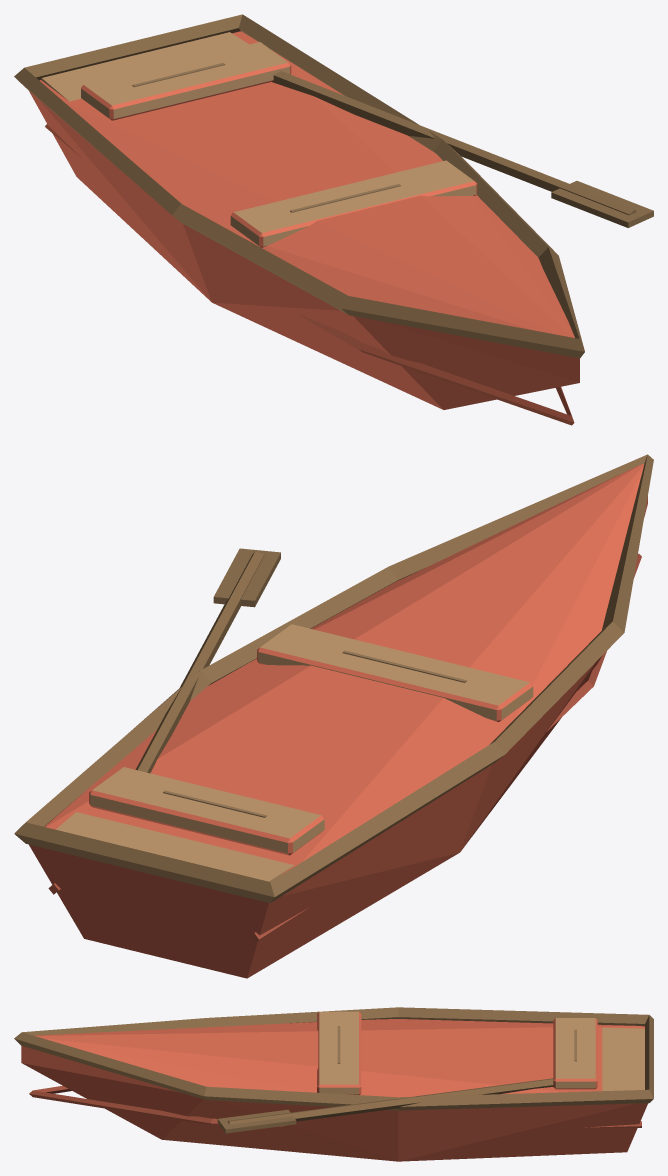
The model's file is rowboat.glb.
3 renders of one model, top to bottom at view 1: azimuth 30°, elevation 25°; view 2: azimuth 150°, elevation 25°; view 3: azimuth 270°, elevation 25°, orthographic. The views are drawn at different scales.
Parts seen in each view (by area): view 1: rowboat-m; view 2: rowboat-m; view 3: rowboat-m.
Boxes of the visible parts, x1,y1,x2,y2 form: rowboat-m: [14, 14, 653, 425]; rowboat-m: [14, 454, 653, 978]; rowboat-m: [14, 1007, 653, 1161].
Size of the model in its own units: 1.98 by 0.7099 by 4.33.
